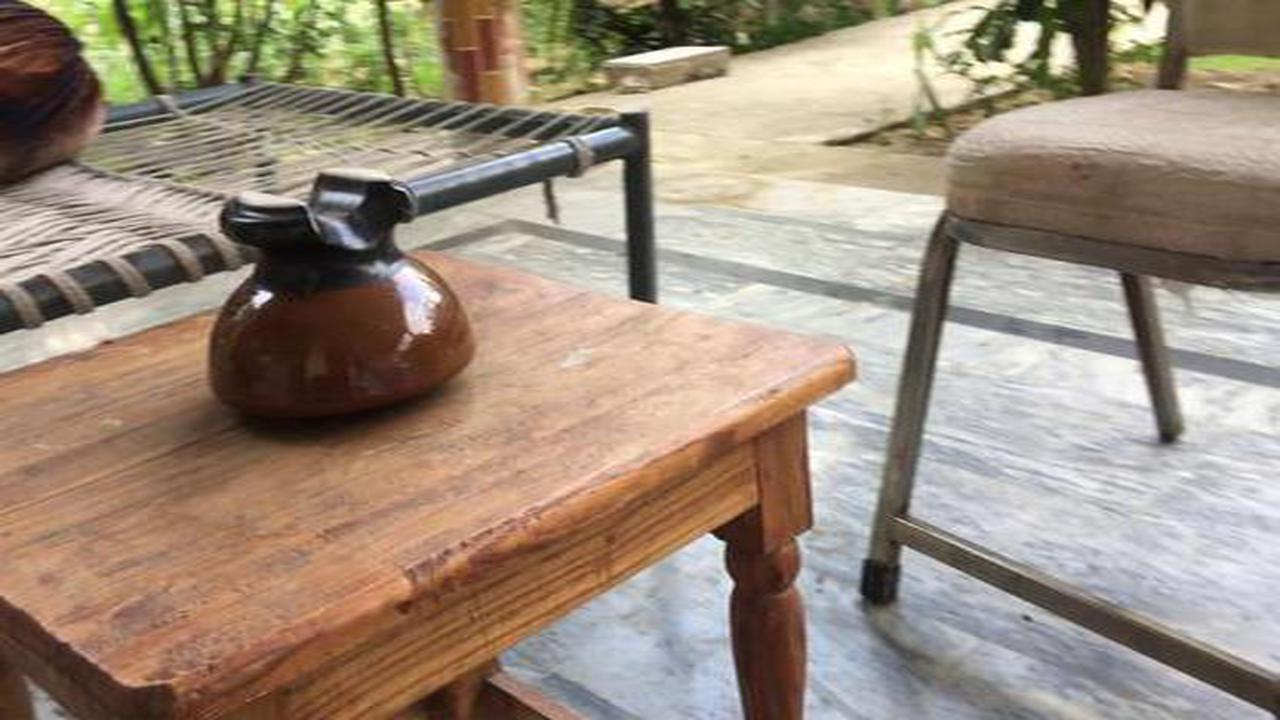insulator_pin: (191, 153, 490, 445)
